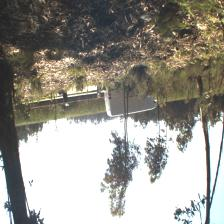trunktrack_idkeyframe: (0, 87, 27, 208), (193, 78, 211, 202)
